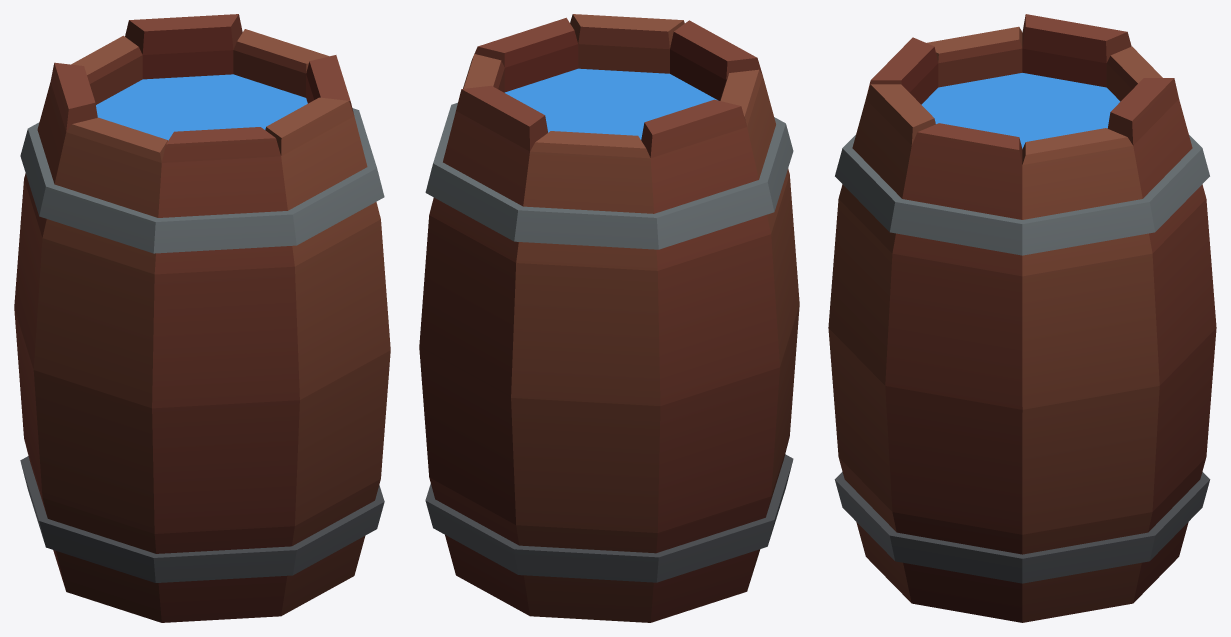
File: farmpack2023barrelopen.fbx
The picture shows the model from 3 angles, left to right: view 1: azimuth 30°, elevation 25°; view 2: azimuth 150°, elevation 25°; view 3: azimuth 270°, elevation 25°; orthographic projection.
Parts seen in each view (by area): view 1: farmpack2023barrelopen; view 2: farmpack2023barrelopen; view 3: farmpack2023barrelopen.
Boxes of the visible parts, box(x1,y1,x2,y2) form: farmpack2023barrelopen: box(14, 14, 390, 622); farmpack2023barrelopen: box(419, 14, 799, 622); farmpack2023barrelopen: box(828, 14, 1216, 622).
Bounding box in the file's own units: 1.29 × 1.29 × 1.76.
